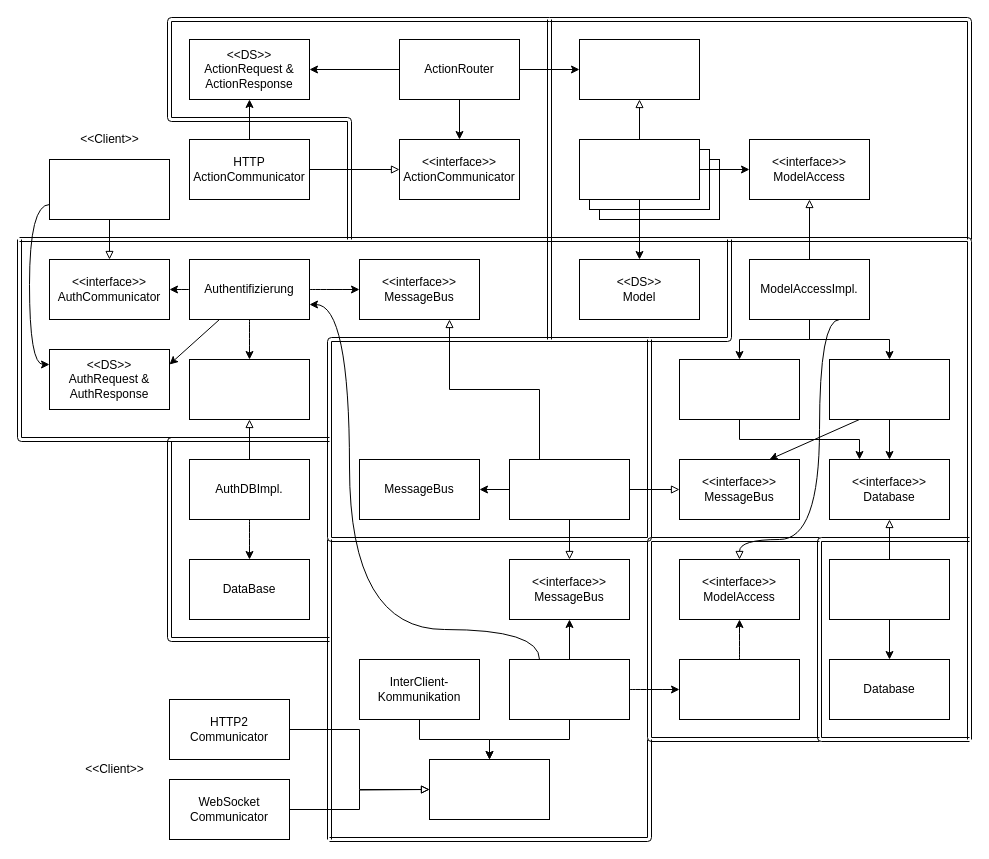
This 989x859 diagram has some shape labels left out. Here are the shapes that lost their labels. From the top down, the centre of each, then its label:
At (639,69): "<<interface> Action".
At (109,189): "HTTP AuthCommunicator".
At (639,169): "ActionImpl.".
At (249,389): "<<interface>> AuthDB".
At (739,389): "FullDataView".
At (889,389): "Writer".
At (569,489): "MessageBusImpl.".
At (889,589): "DatabaseImpl.".
At (569,689): "Autoupdate".
At (739,689): "Authorisierung (PermissionService)".
At (489,789): "<<interface>> Communicator".
